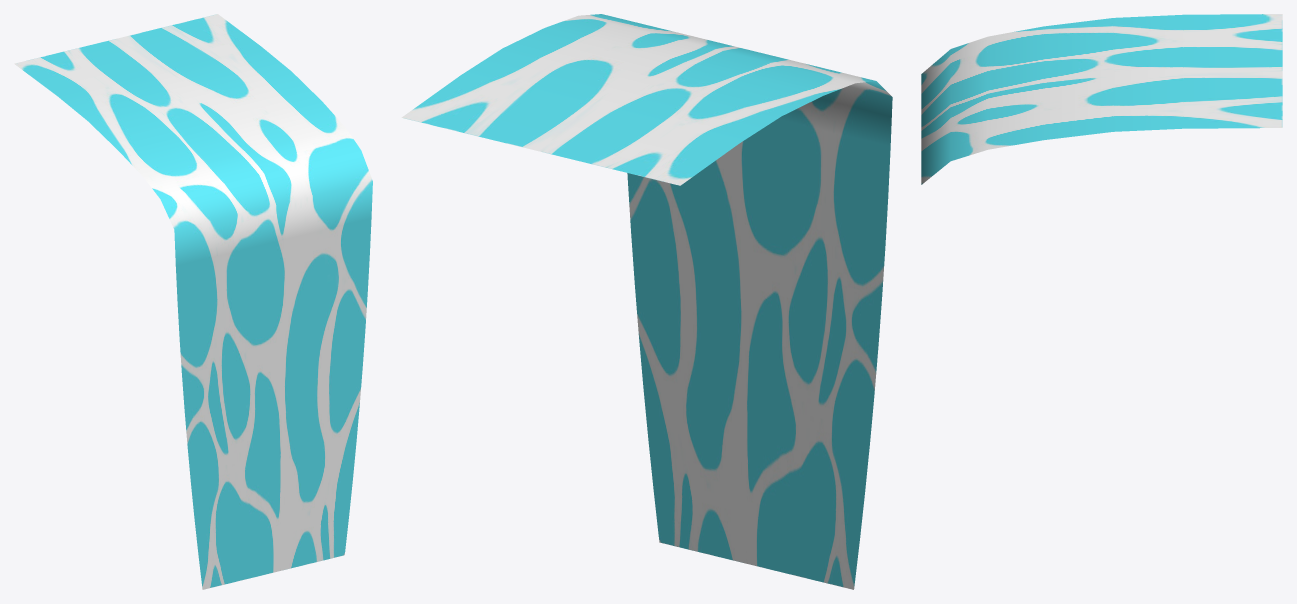
The model's file is Eff_plane_water_01.FBX.
3 views of the same model, side by side, from view 1: azimuth 30°, elevation 25°; view 2: azimuth 150°, elevation 25°; view 3: azimuth 270°, elevation 25° (orthographic). The views are drawn at different scales.
Visible parts, largest first — view 1: Eff_plane_water_01; view 2: Eff_plane_water_01; view 3: Eff_plane_water_01.
Boxes of the visible parts, left/top/right/bottom form: Eff_plane_water_01: left=14, top=14, right=372, bottom=589; Eff_plane_water_01: left=401, top=14, right=892, bottom=589; Eff_plane_water_01: left=921, top=14, right=1282, bottom=184.
Size of the model in its own units: 59.69 by 117 by 80.
Materials: 1 (1 with a texture image).
